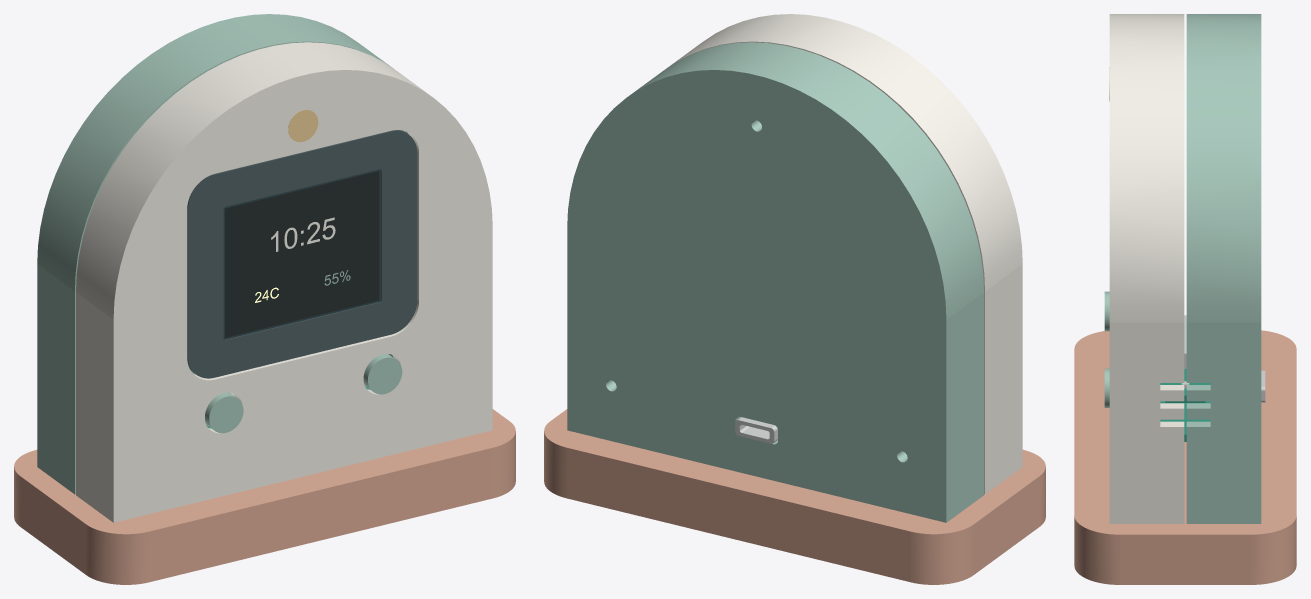
The model's file is 05_彩色查看.glb.
3 views of the same model, side by side, from view 1: azimuth 30°, elevation 25°; view 2: azimuth 150°, elevation 25°; view 3: azimuth 270°, elevation 25° (orthographic).
Visible parts, largest first — view 1: FrontShell, Plinth, RearShell, DisplayBezel, ActiveDisplay, TFTGlass, Button1, Button0, SunMark; view 2: RearShell, Plinth, FrontShell, USB_C; view 3: FrontShell, RearShell, Plinth, MainPCB.
Part boxes in pixels (x1,y1,x2,y2): FrontShell: [76, 42, 492, 522]; Plinth: [14, 409, 515, 584]; RearShell: [37, 14, 408, 494]; DisplayBezel: [187, 130, 417, 378]; ActiveDisplay: [225, 171, 379, 337]; TFTGlass: [223, 169, 380, 339]; Button1: [363, 354, 402, 394]; Button0: [205, 392, 243, 433]; SunMark: [288, 110, 318, 142]; RearShell: [567, 42, 983, 522]; Plinth: [544, 409, 1045, 584]; FrontShell: [666, 14, 1022, 494]; USB_C: [735, 417, 777, 443]; FrontShell: [1109, 14, 1184, 523]; RearShell: [1186, 14, 1261, 523]; Plinth: [1074, 330, 1296, 584]; MainPCB: [1160, 369, 1210, 441].
Bounding box in the file's own units: 0.096 × 0.099 × 0.044.
